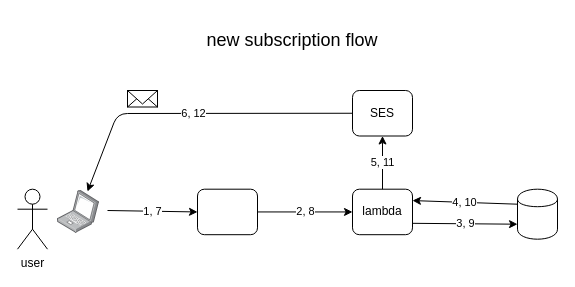
The diagram is 575 pixels wide and 287 high, and some of its shapes have lost their labels. Each missing label, with the box of its shape:
API gateway: (196, 188, 258, 235)
RDS DB: (516, 188, 558, 239)
